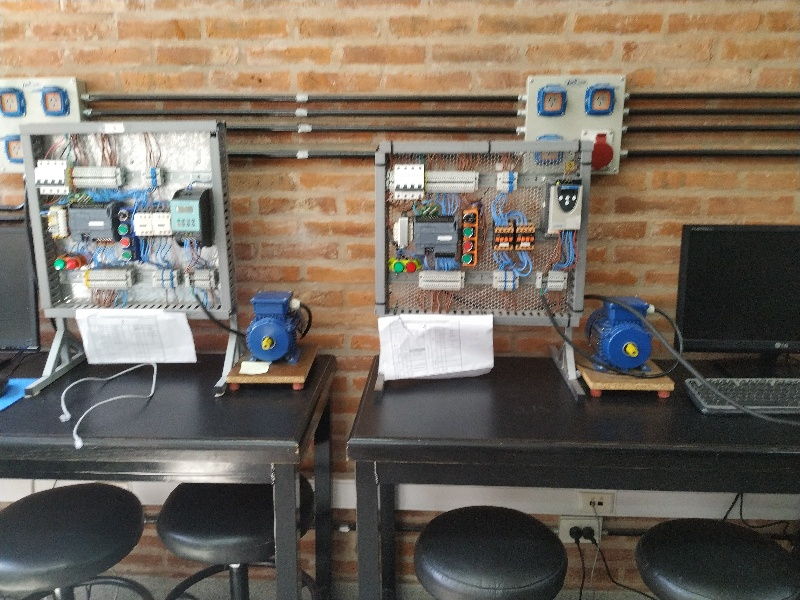Tablero 3: (27, 132, 223, 312)
Tablero 4: (383, 150, 587, 325)
